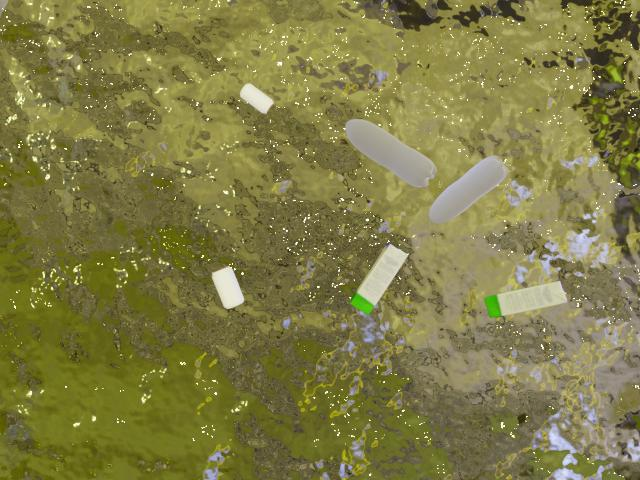Metal: (207, 260, 254, 326), (224, 78, 287, 125)
Plastic: (334, 105, 443, 195), (423, 145, 518, 234)
Trash: (344, 238, 426, 329), (484, 272, 574, 325)
